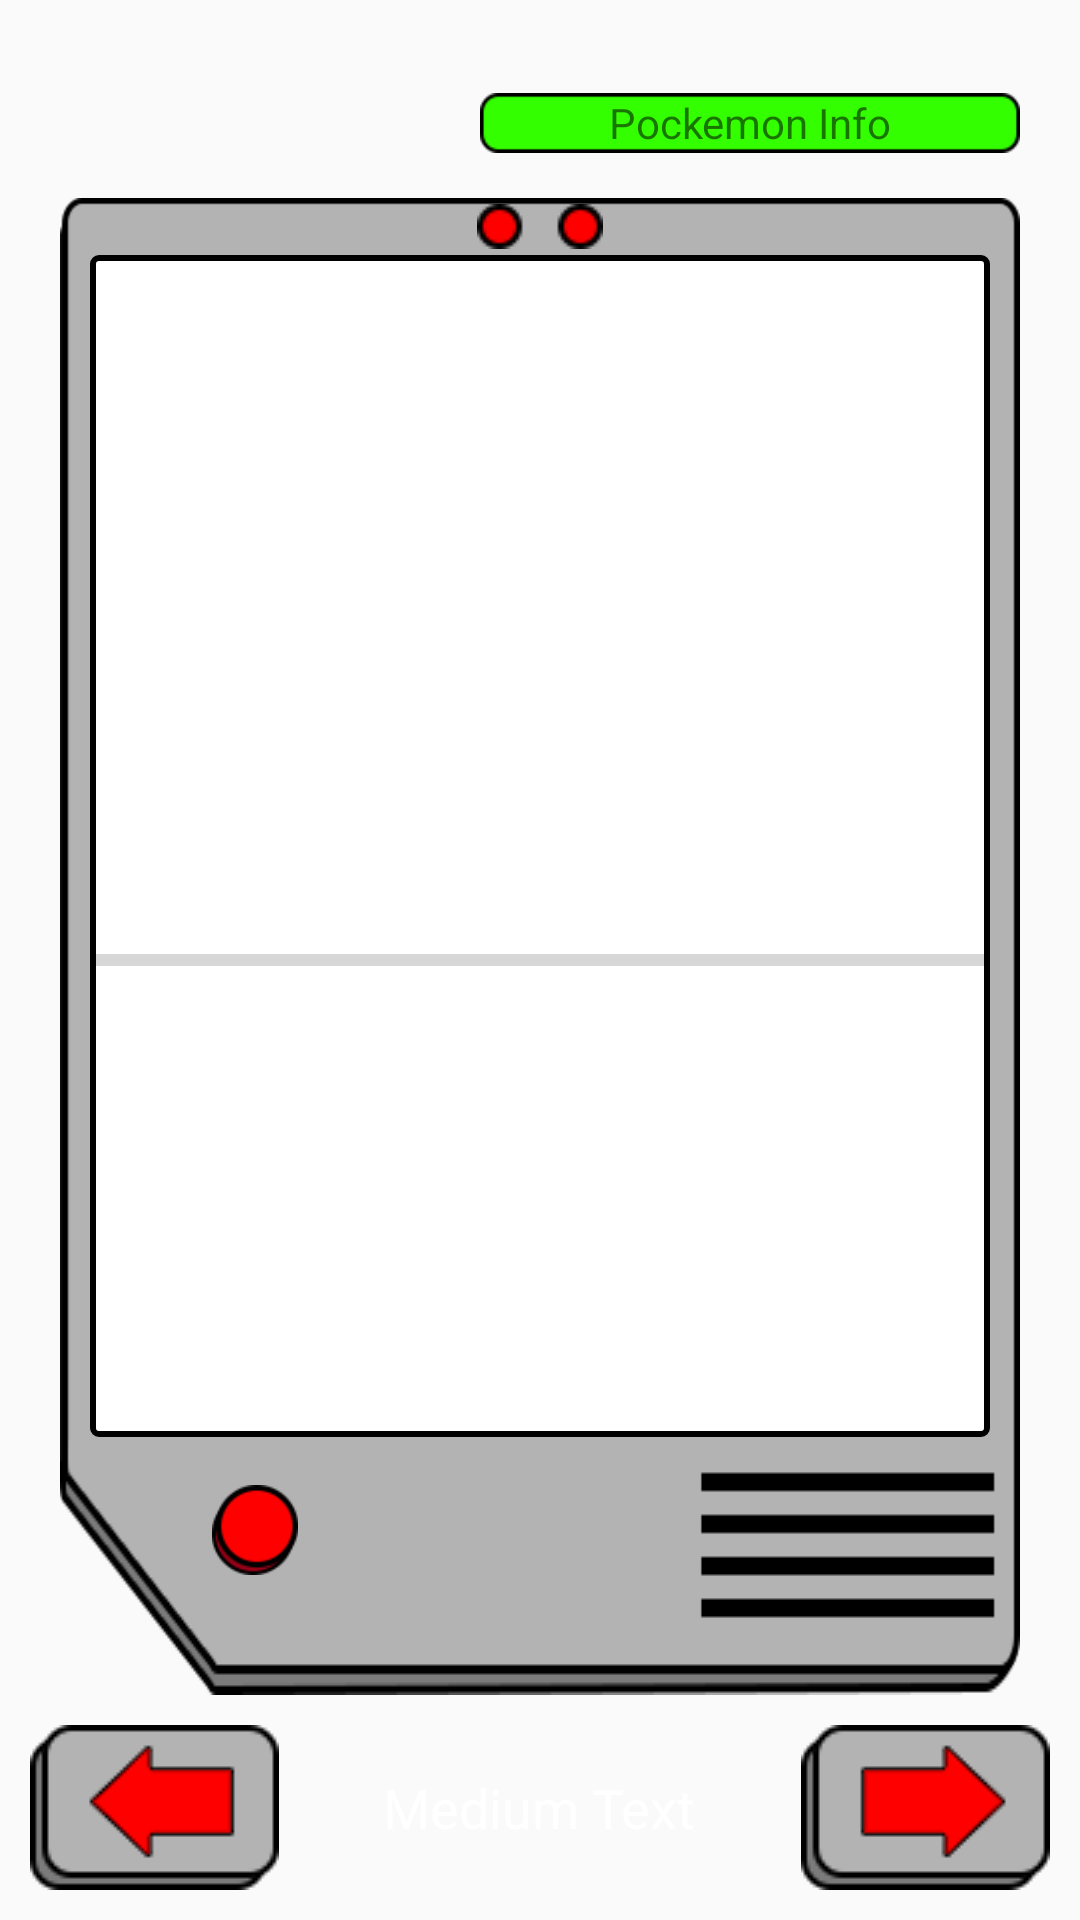

Point at icon controls on the screen. Image size 1080*1920, points as [x,y].
left: [154,1807]
right: [925,1807]
top circles: [540,226]
